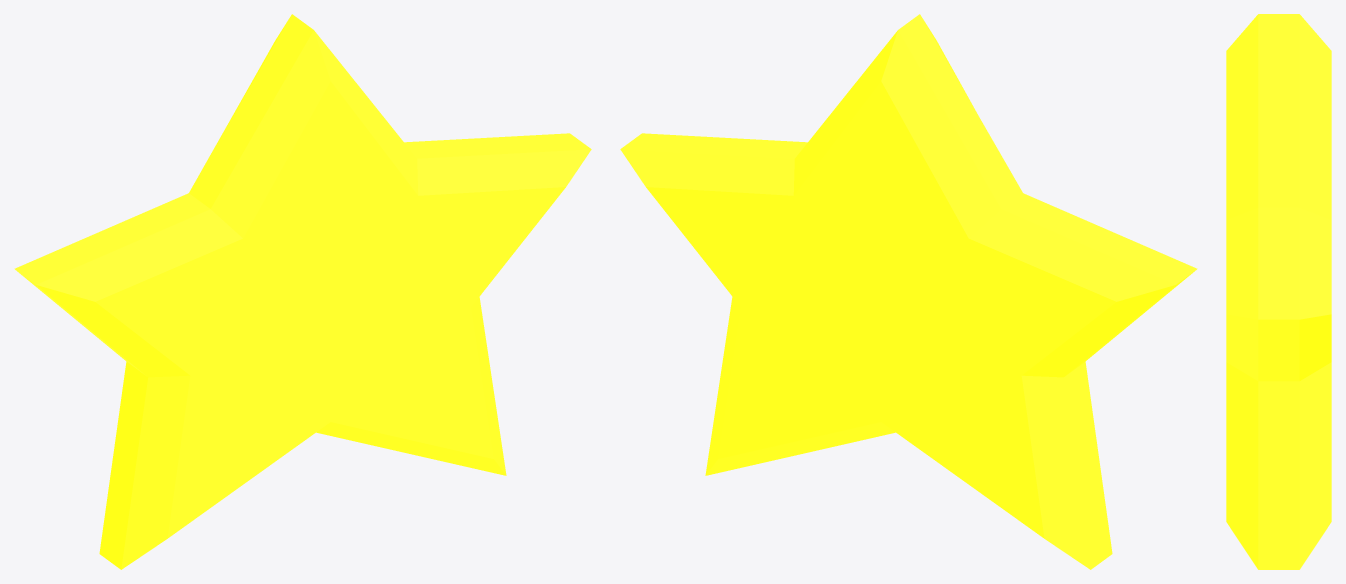
The model's file is MadeByJawns_ItchIO_GameItems_v1_0_1_Star.glb.
3 views of the same model, side by side, from view 1: azimuth 30°, elevation 25°; view 2: azimuth 150°, elevation 25°; view 3: azimuth 270°, elevation 25° (orthographic). The views are drawn at different scales.
Visible parts, largest first — view 1: Star; view 2: Star; view 3: Star.
Part boxes in pixels (bbox=[...]): Star: bbox=[14, 14, 591, 569]; Star: bbox=[620, 14, 1197, 569]; Star: bbox=[1226, 14, 1331, 569].
Size of the model in its own units: 6.08 by 5.15 by 1.05.
